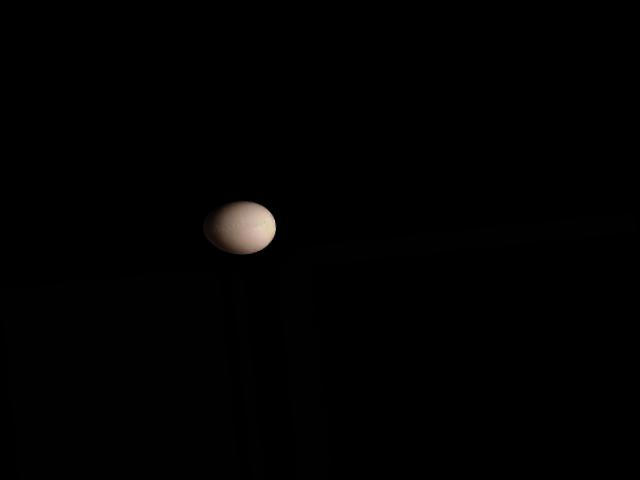egg: (201, 197, 279, 257)
